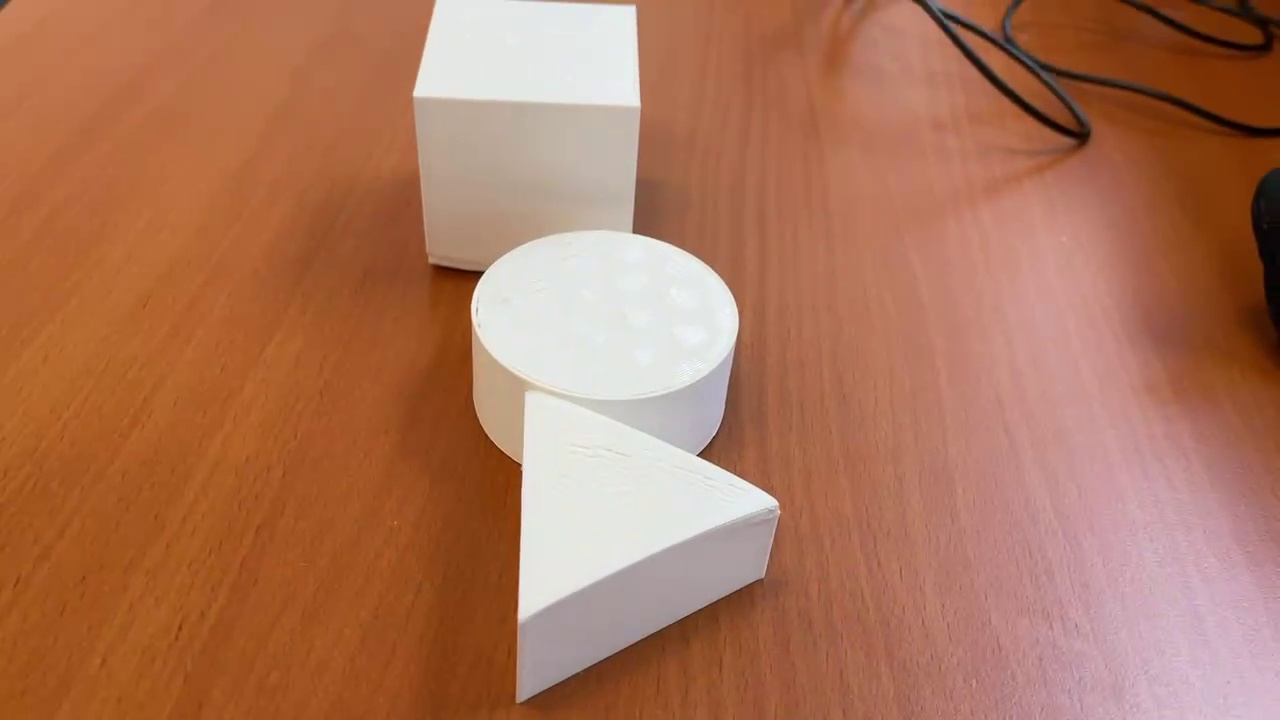Cube: (402, 2, 647, 275)
Cylinder_short: (468, 229, 739, 463)
Triangle_short: (517, 393, 781, 702)
